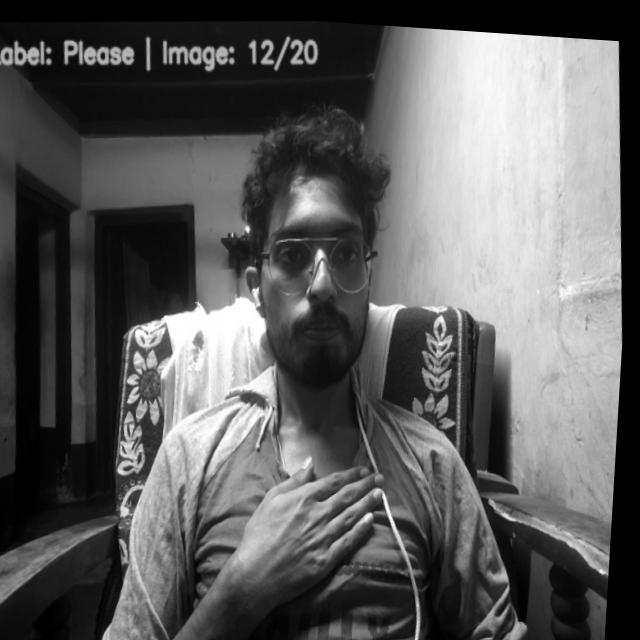Please: (233, 444, 403, 605)
